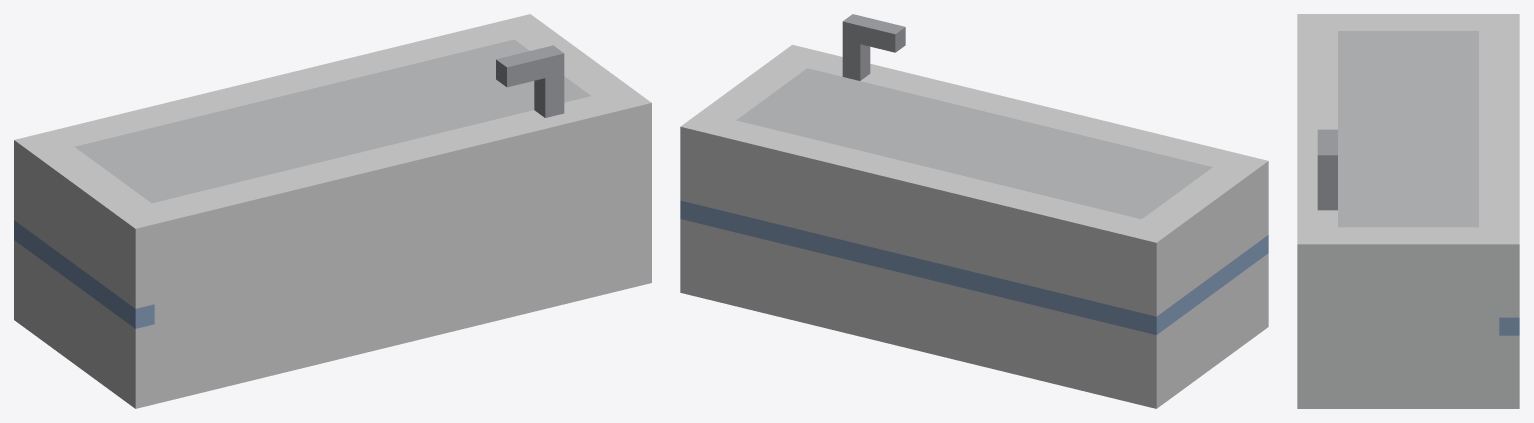
Rendered from baignoire.glb.
3 renders of one model, left to right at view 1: azimuth 30°, elevation 25°; view 2: azimuth 150°, elevation 25°; view 3: azimuth 270°, elevation 25°, orthographic. The views are drawn at different scales.
Parts seen in each view (by area): view 1: main; view 2: main; view 3: main.
Part boxes in pixels (x1,y1,x2,y2): main: [14, 14, 651, 408]; main: [680, 14, 1268, 408]; main: [1297, 14, 1519, 408].
Bounding box in the file's own units: 1.69 × 0.75 × 0.6875.
